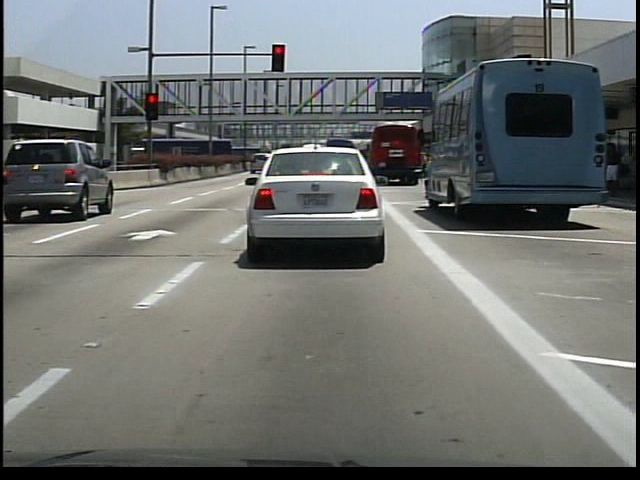person: (604, 141, 623, 194)
